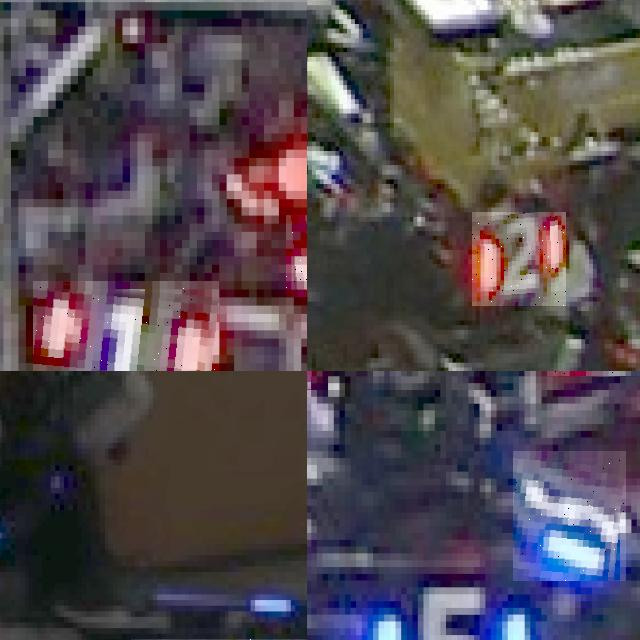B5: (513, 451, 626, 581), (367, 587, 541, 640)
R1: (33, 281, 219, 371)
R2: (472, 212, 566, 306)
